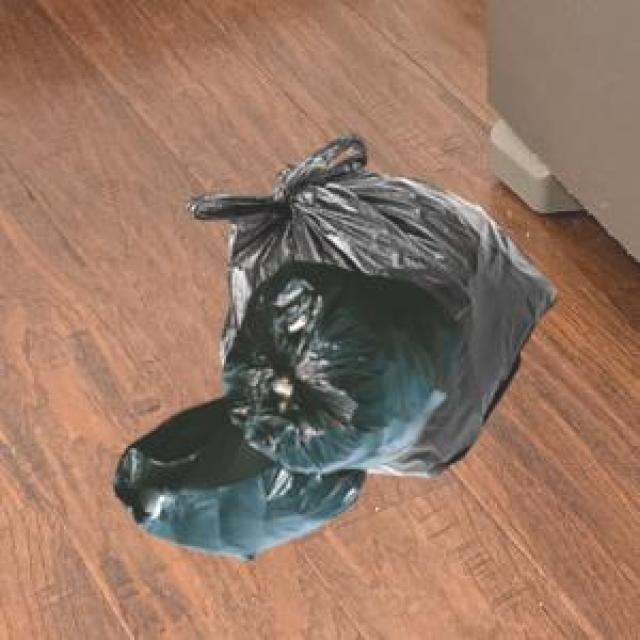Trashbag: (224, 260, 462, 472), (111, 437, 361, 560)
